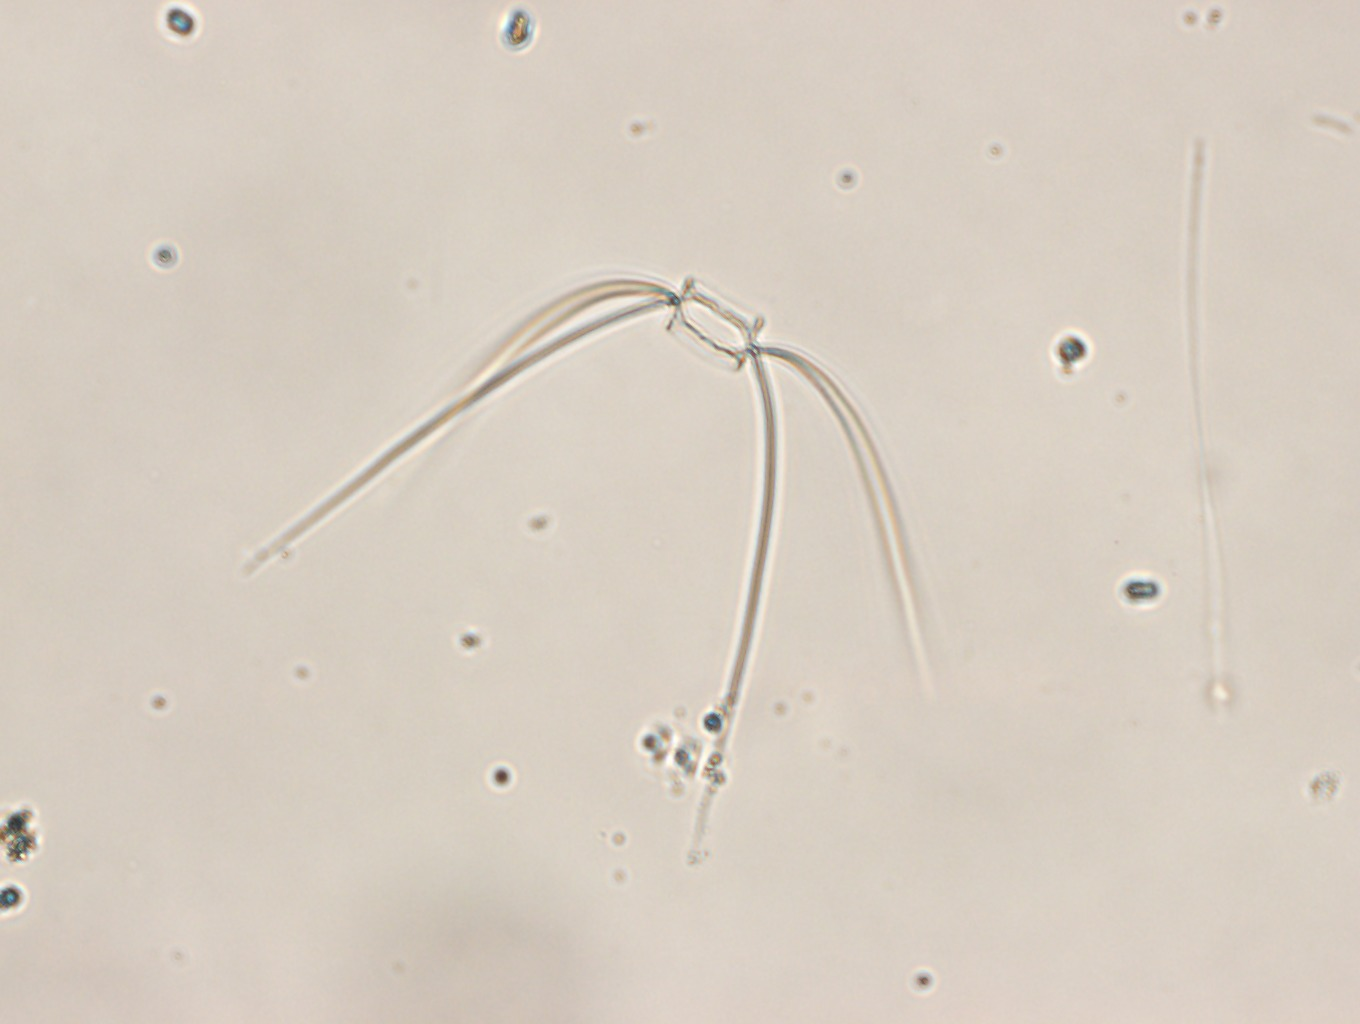chaetoceros: (245, 274, 926, 787)
